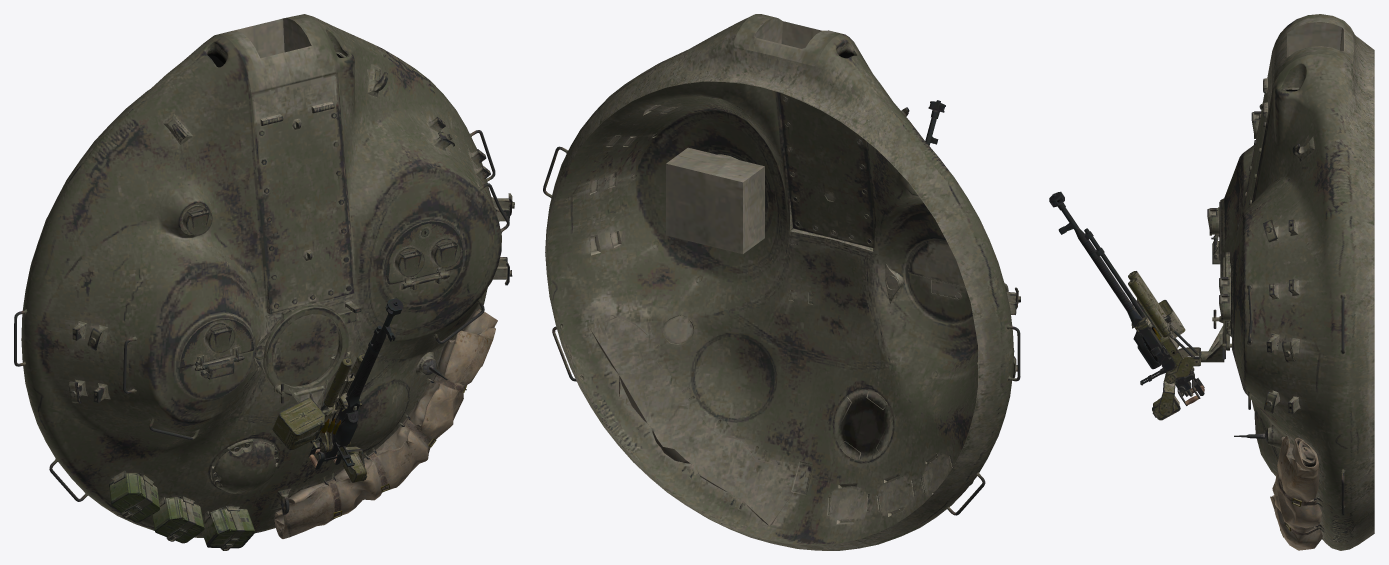
The model's file is Turret_01.glb.
3 views of the same model, side by side, from view 1: azimuth 30°, elevation 25°; view 2: azimuth 150°, elevation 25°; view 3: azimuth 270°, elevation 25° (orthographic). The views are drawn at different scales.
Visible parts, largest first — view 1: set_0_group_0; view 2: set_0_group_0; view 3: set_0_group_0.
Boxes of the visible parts, left/top/right/bottom form: set_0_group_0: left=14, top=14, right=514, bottom=550; set_0_group_0: left=543, top=14, right=1020, bottom=550; set_0_group_0: left=1049, top=14, right=1374, bottom=550.
Size of the model in its own units: 3.4 by 3.46 by 2.06.
1 material, 1 textured.
